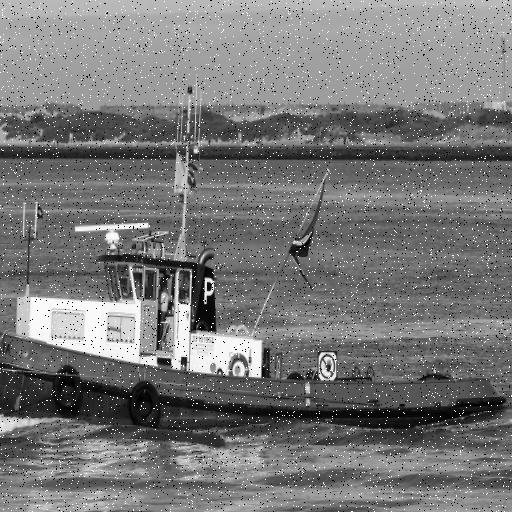tugboat: (1, 69, 512, 446)
